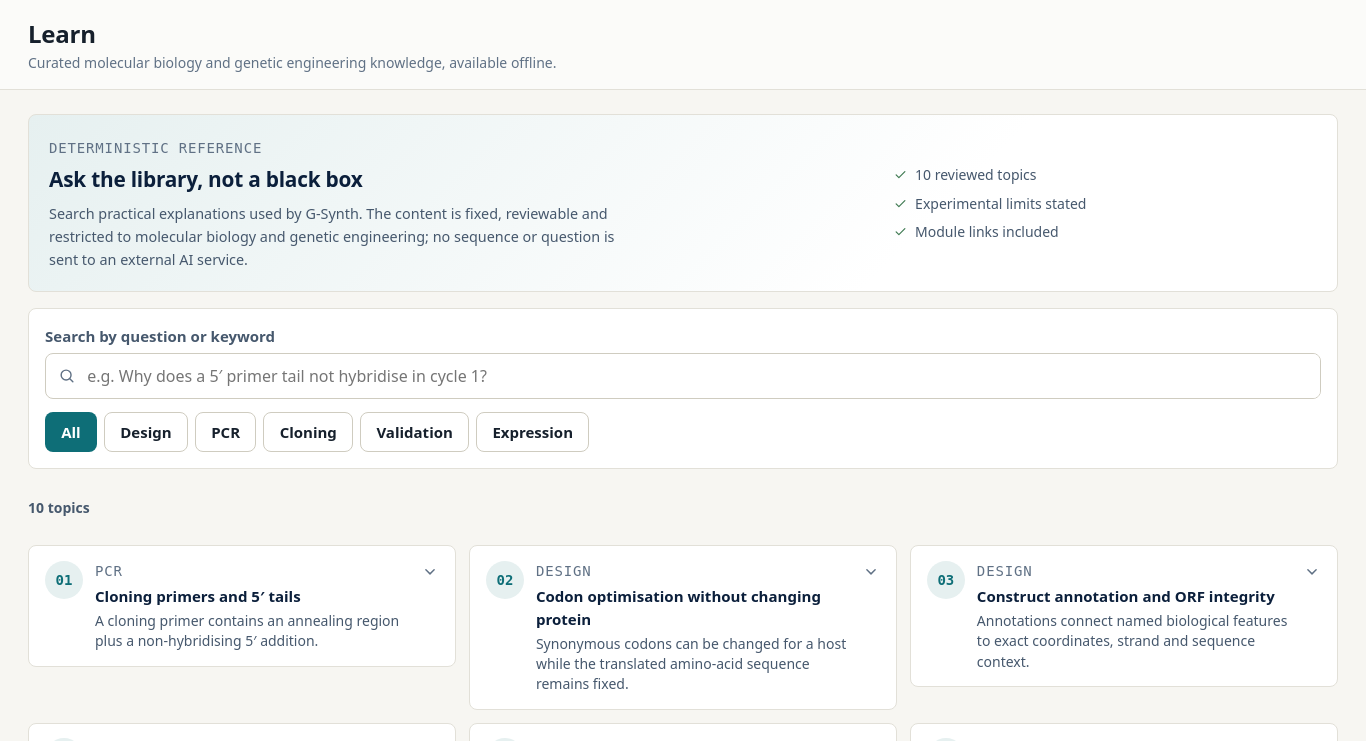
Test: Learn deterministic knowledge library › answers a practical primer-tail search with the reviewed topic
The image size is (1366, 741).
In the field labelled "Search by question or keyword": coordinates (698, 376) [76,354,1320,398], type "5′ primer tail hybridise cycle 1"
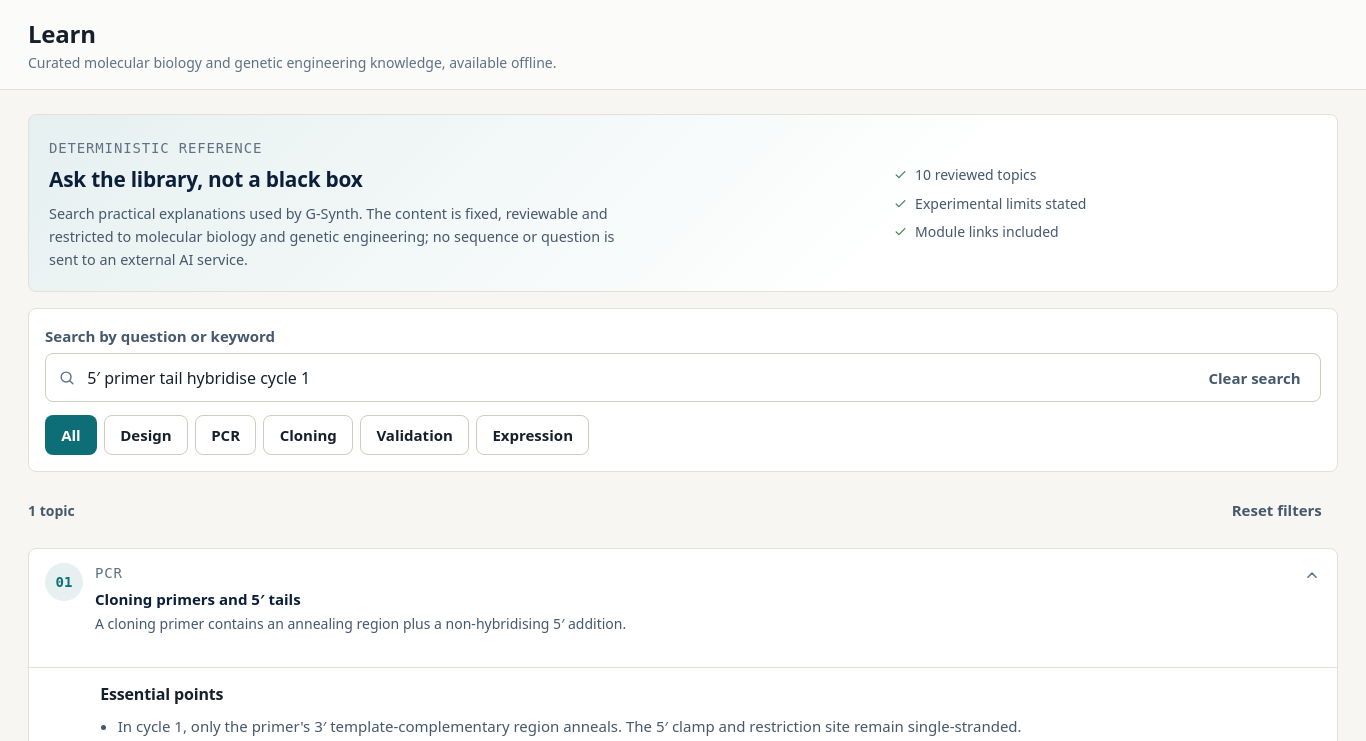
Expected: the text "Cloning primers and 5′ tails" is shown, [95,589,301,609]
Now the list item "only the primer's 3′ template-complementary region anneals" is shown, box [118,716,1022,736]
